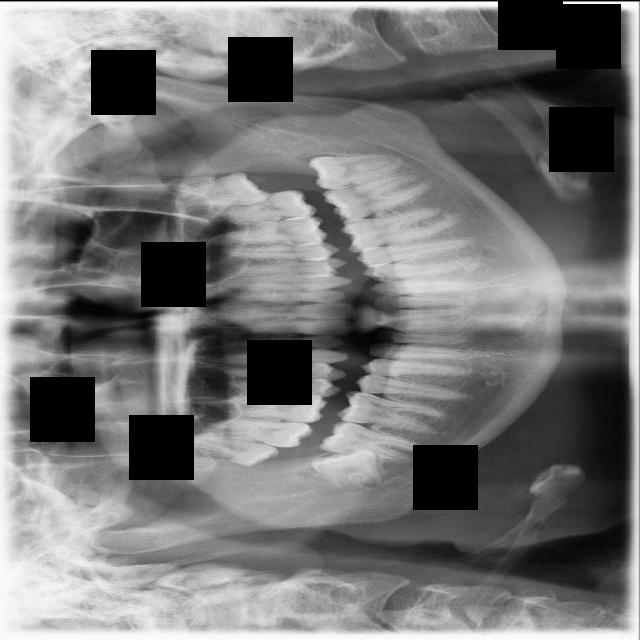3M ESPE Implant: (181, 430, 281, 471)
73: (606, 12, 614, 23)
BioHorizons Implant: (196, 187, 319, 226)
BioLife Implant: (152, 169, 271, 211)
Biomet 3i Implant: (308, 152, 398, 190)
Blue Sky Bio Implant: (322, 168, 434, 225)
Caries: (198, 414, 314, 448)
Implant: (318, 416, 428, 466)
Keystone Dental Implant: (309, 445, 384, 490)
